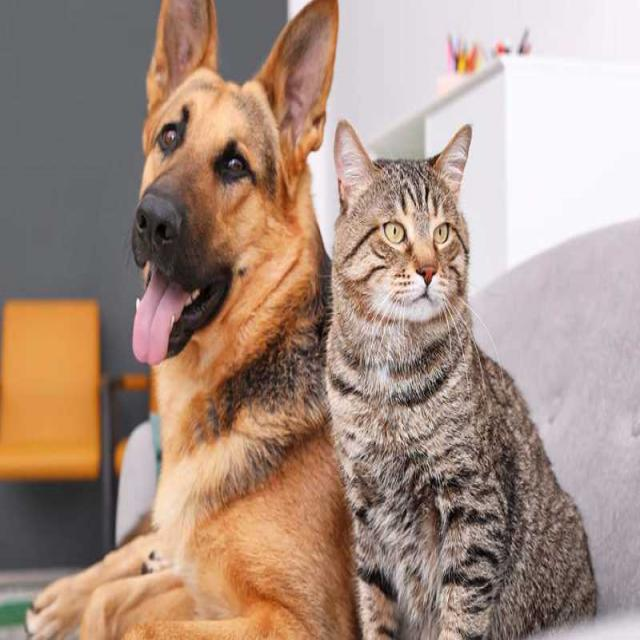cat: (332, 115, 602, 640)
dog: (21, 0, 337, 640)
